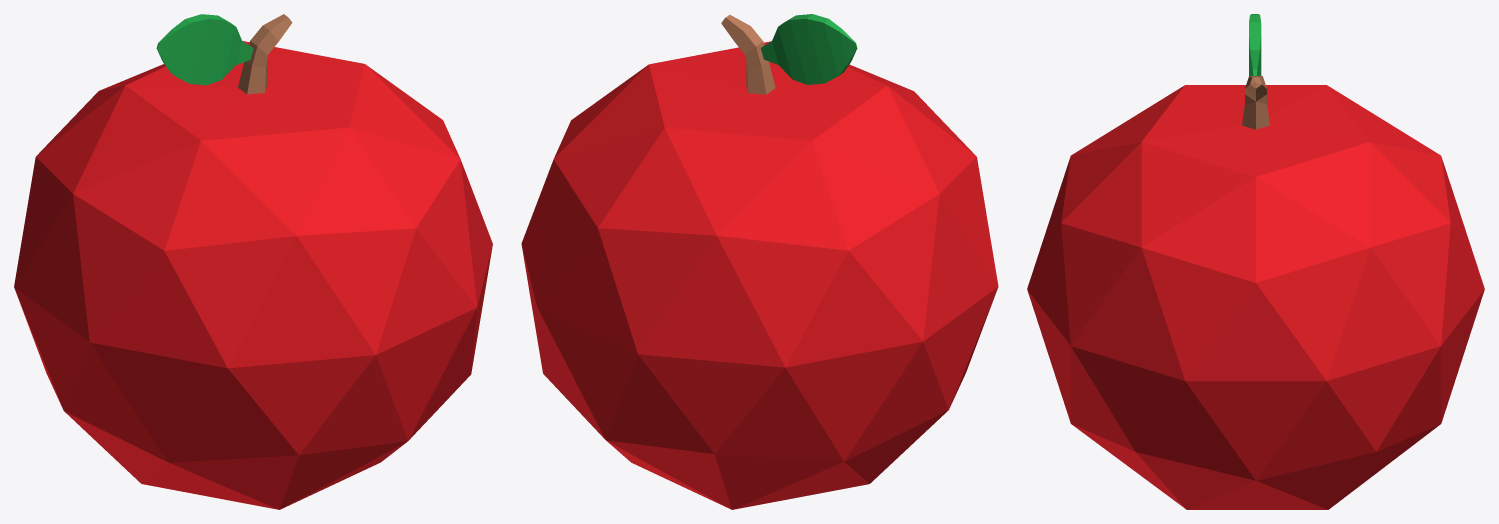
The model's file is Apple.glb.
The picture shows the model from 3 angles, left to right: view 1: azimuth 30°, elevation 25°; view 2: azimuth 150°, elevation 25°; view 3: azimuth 270°, elevation 25°; orthographic projection. The views are drawn at different scales.
Parts seen in each view (by area): view 1: Icosphere; view 2: Icosphere; view 3: Icosphere.
Boxes of the visible parts, x1=… form: Icosphere: x1=14, y1=14, x2=492, y2=509; Icosphere: x1=521, y1=14, x2=998, y2=509; Icosphere: x1=1027, y1=14, x2=1484, y2=509.
Bounding box in the file's own units: 1.9 × 2.21 × 2.
Materials: 1 (1 with a texture image).
